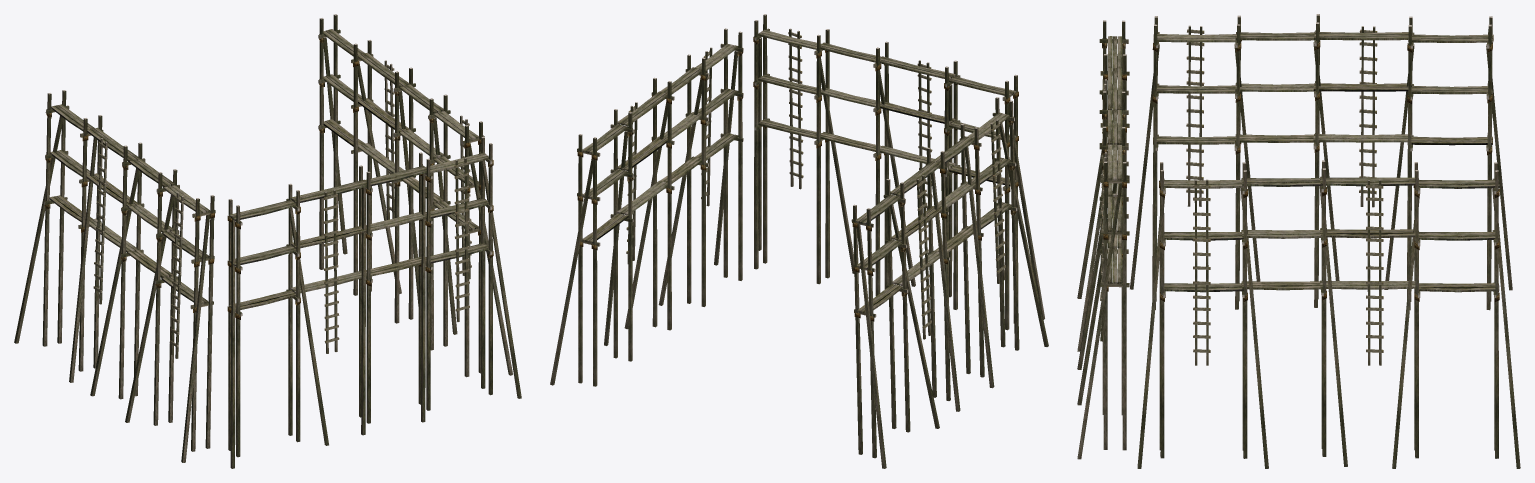
File: scaffold_up_7x7.glb
The picture shows the model from 3 angles, left to right: view 1: azimuth 30°, elevation 25°; view 2: azimuth 150°, elevation 25°; view 3: azimuth 270°, elevation 25°; orthographic projection. The views are drawn at different scales.
Parts seen in each view (by area): view 1: scaffold_up_7x7_part0; view 2: scaffold_up_7x7_part0; view 3: scaffold_up_7x7_part0.
Part boxes in pixels (left/top/right/bottom): scaffold_up_7x7_part0: left=14, top=14, right=521, bottom=468; scaffold_up_7x7_part0: left=550, top=14, right=1048, bottom=468; scaffold_up_7x7_part0: left=1077, top=14, right=1520, bottom=468.
Size of the model in its own units: 6.5 by 4.8 by 6.5.
1 material, 1 textured.
